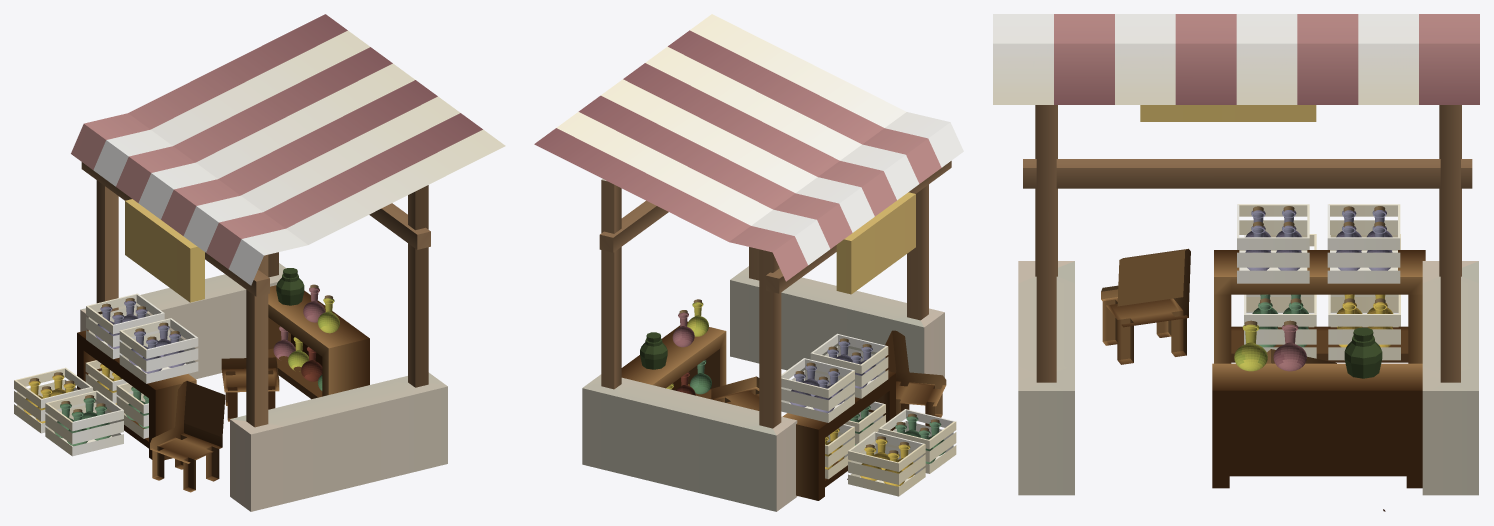
File: stall_a.glb
3 views of the same model, side by side, from view 1: azimuth 30°, elevation 25°; view 2: azimuth 150°, elevation 25°; view 3: azimuth 270°, elevation 25° (orthographic). The views are drawn at different scales.
Parts seen in each view (by area): view 1: Plane009, Cube004, Circle004, Cube013, Plane013, Cube010, Plane033, Plane025, Circle003, Plane024, Plane026, Plane012 (+4 smaller); view 2: Plane009, Cube013, Cube004, Circle004, Cube010, Circle003, Plane026, Plane024, Plane033, Plane013, Plane025, Cube019 (+4 smaller); view 3: Plane009, Circle004, Cube004, Cube013, Cube019, Circle003, Plane013, Plane024, Plane033, Plane022, Plane020, Cube010.
Boxes of the visible parts, x1,y1,x2,y2 form: Plane009: (71, 14, 505, 285); Cube004: (230, 185, 447, 511); Circle004: (268, 268, 369, 399); Cube013: (80, 180, 285, 379); Plane013: (150, 381, 225, 492); Cube010: (125, 199, 204, 302); Plane033: (119, 318, 198, 383); Plane025: (45, 390, 123, 456); Circle003: (77, 330, 196, 460); Plane024: (86, 293, 164, 359); Plane026: (14, 367, 92, 433); Plane012: (221, 357, 279, 421); Plane009: (534, 14, 963, 281); Cube013: (582, 179, 797, 511); Cube004: (730, 184, 944, 388); Circle004: (621, 299, 726, 399); Cube010: (836, 192, 915, 294); Circle003: (782, 370, 895, 500); Plane026: (848, 431, 925, 496); Plane024: (781, 358, 854, 422); Plane033: (810, 333, 888, 398); Plane013: (885, 330, 946, 426); Plane025: (878, 409, 956, 473); Cube019: (599, 200, 668, 252); Plane009: (993, 14, 1479, 104); Circle004: (1212, 320, 1422, 511); Cube004: (1018, 105, 1074, 495); Cube013: (1422, 105, 1478, 495); Cube019: (1023, 159, 1472, 188); Circle003: (1214, 250, 1425, 363); Plane013: (1101, 248, 1190, 364); Plane024: (1327, 204, 1400, 283); Plane033: (1237, 204, 1309, 283); Plane022: (1328, 294, 1400, 360); Plane020: (1244, 294, 1316, 358); Cube010: (1140, 105, 1316, 121).
Bounding box in the file's own units: 2.3 × 2.22 × 2.11.
Materials: 1 (1 with a texture image).
